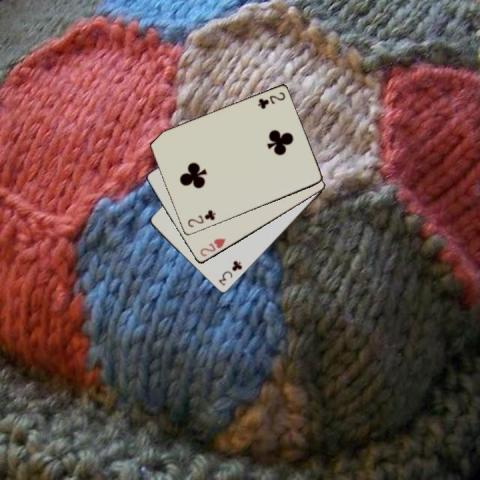2c: (184, 207, 216, 229), (255, 89, 286, 111)
2h: (196, 235, 226, 258)
3c: (216, 258, 243, 287)
